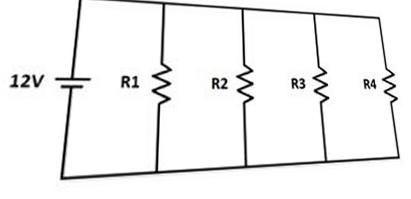resistor: (225, 52, 260, 113), (147, 47, 175, 106), (312, 55, 334, 120), (377, 61, 400, 112)
